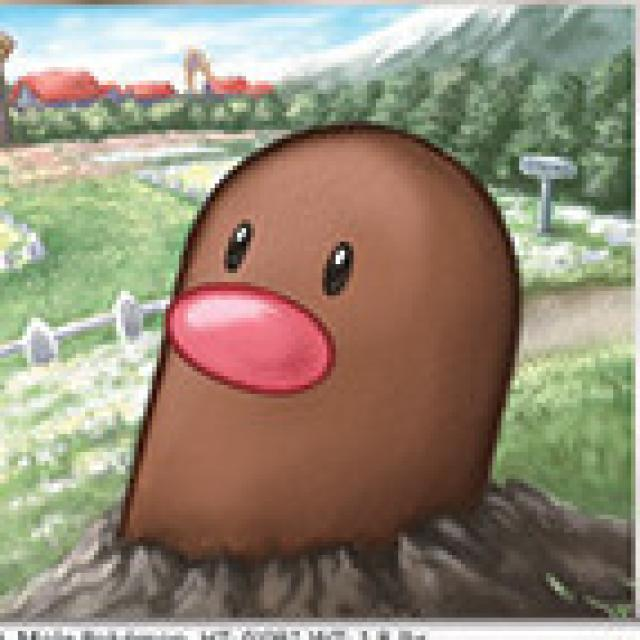Diglett: (135, 118, 516, 555)
